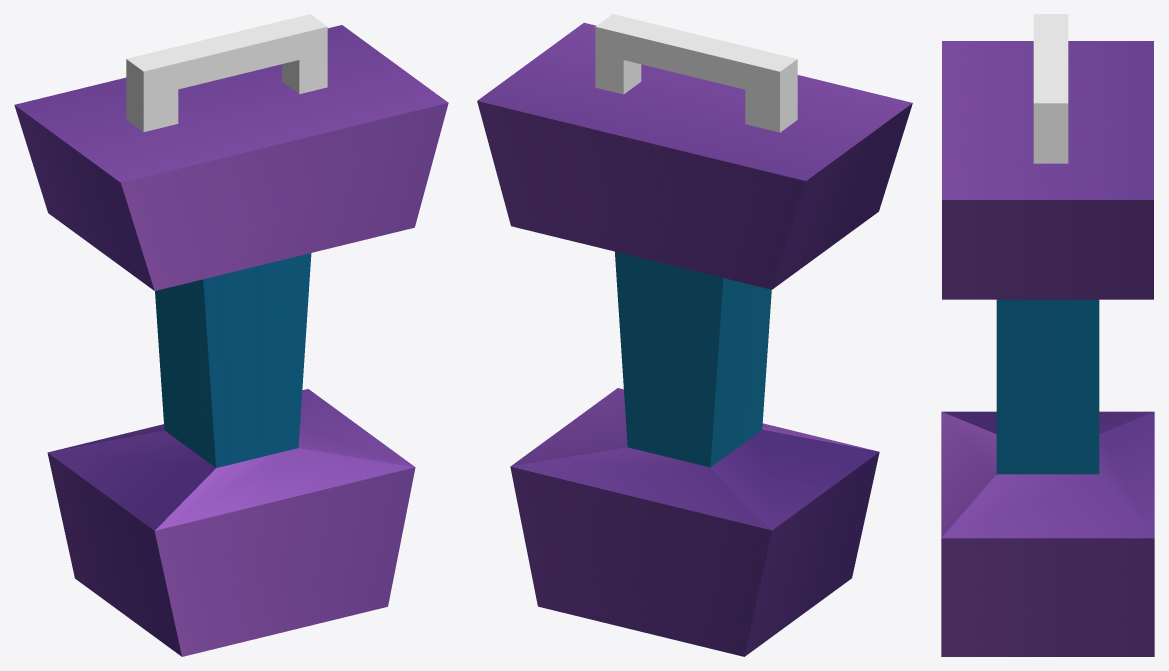
The model's file is SM_Lantern.fbx.
3 renders of one model, left to right at view 1: azimuth 30°, elevation 25°; view 2: azimuth 150°, elevation 25°; view 3: azimuth 270°, elevation 25°, orthographic.
Parts seen in each view (by area): view 1: Lantern, Handle.007; view 2: Lantern, Handle.007; view 3: Lantern, Handle.007.
Boxes of the visible parts, box(x1,y1,x2,y2) form: Lantern: box(14, 25, 448, 656); Handle.007: box(126, 14, 327, 132); Lantern: box(477, 22, 912, 656); Handle.007: box(595, 14, 797, 132); Lantern: box(941, 41, 1154, 656); Handle.007: box(1033, 14, 1068, 163).
Size of the model in its own units: 15.13 by 26.72 by 42.79.
